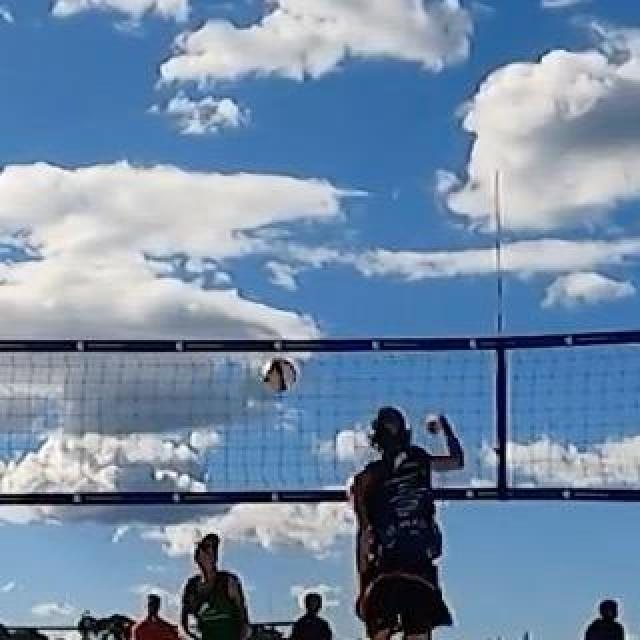volleyball: (261, 358, 297, 392)
